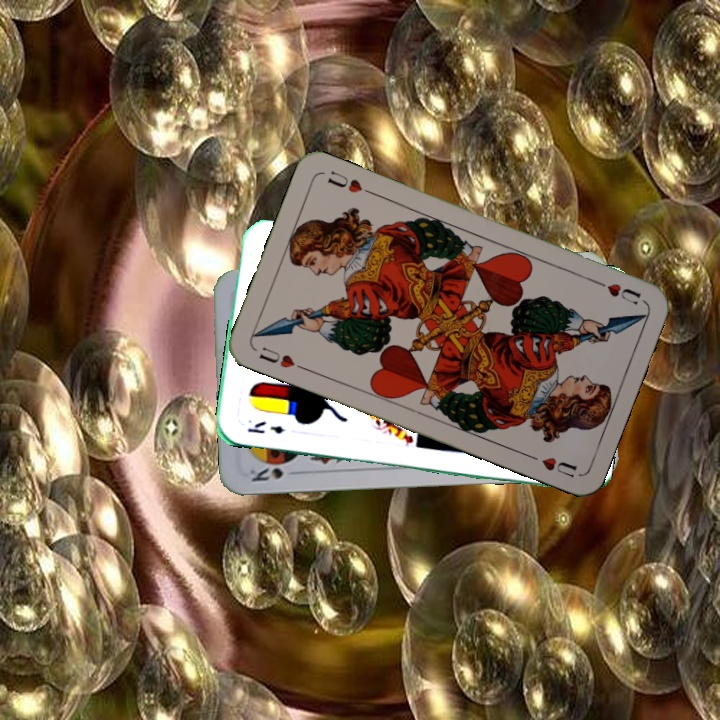EK: (244, 417, 288, 436)
HU: (589, 276, 644, 308), (254, 342, 308, 373)
SK: (245, 463, 286, 484)
